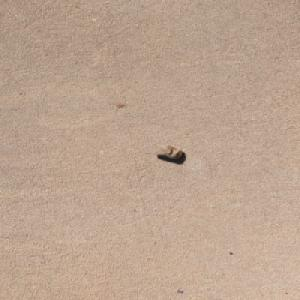Rock: (153, 144, 183, 159)
